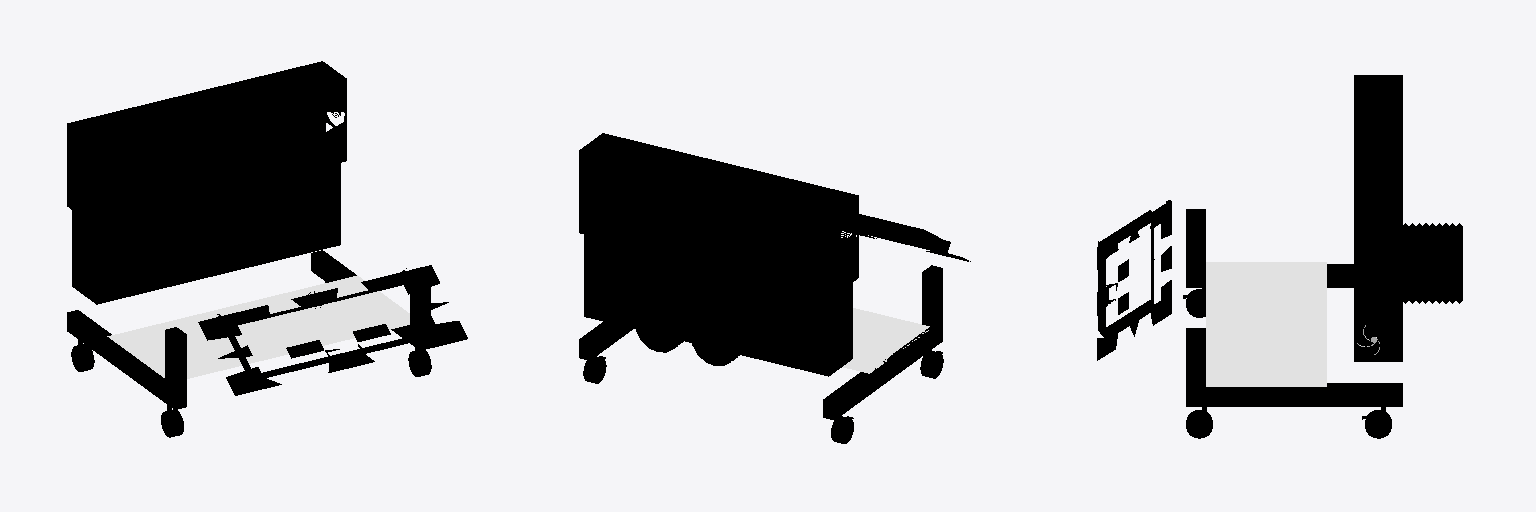
Rendered from laserchassis.obj.
3 views of the same model, side by side, from view 1: azimuth 30°, elevation 25°; view 2: azimuth 150°, elevation 25°; view 3: azimuth 270°, elevation 25° (orthographic).
Parts seen in each view (by area): view 1: object_87, object_64, object_92, object_2, object_108, object_1, object_98, object_97; view 2: object_87, object_64, object_2, object_92, object_1; view 3: object_92, object_87, object_1, object_64, object_2, object_108, object_63, object_101, object_102.
Part boxes in pixels (x1,y1,x2,y2): object_87: (67,61,346,223); object_64: (72,151,340,304); object_92: (107,275,409,378); object_2: (67,310,186,437); object_108: (198,265,467,395); object_1: (311,250,431,376); object_98: (251,330,438,381); object_97: (229,280,412,326); object_87: (579,133,858,295); object_64: (584,235,852,376); object_2: (823,265,943,443); object_92: (843,308,929,373); object_1: (579,322,632,383); object_92: (1206,262,1326,386); object_87: (1354,75,1402,281); object_1: (1186,328,1402,438); object_64: (1354,200,1402,361); object_2: (1186,209,1353,317); object_108: (1097,200,1171,360); object_63: (1357,325,1390,354); object_101: (1100,296,1170,340); object_102: (1100,206,1170,250).
Bounding box in the file's own units: 44.4 × 39.38 × 54.38.